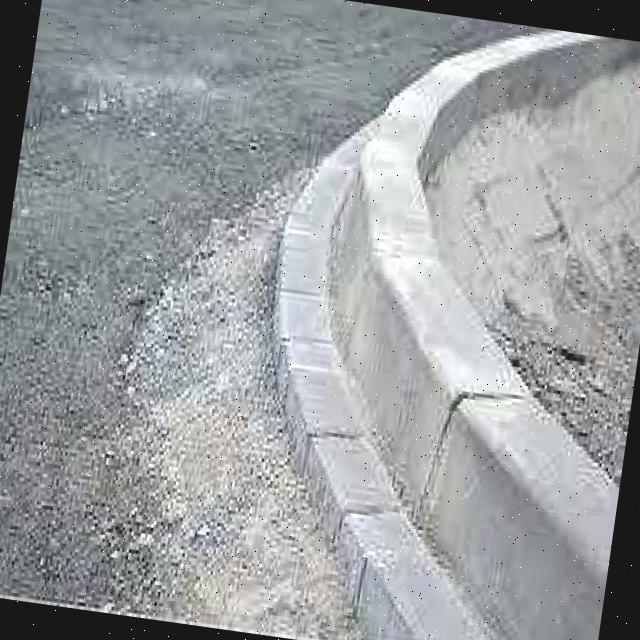curb: (285, 366, 631, 640), (259, 99, 484, 435)
